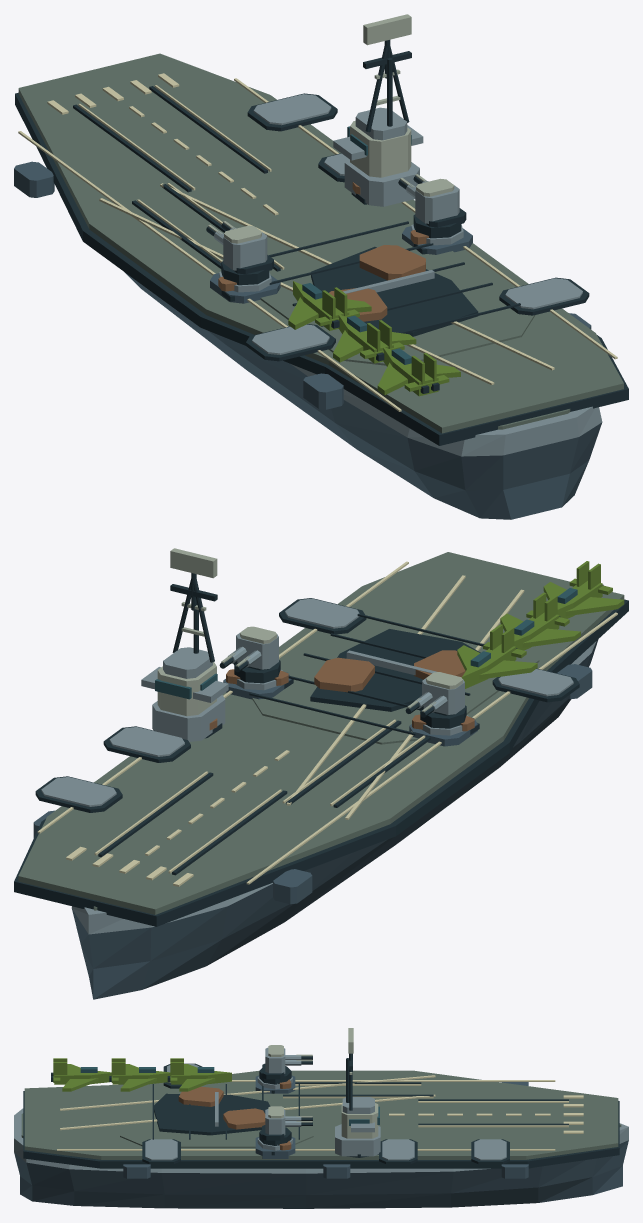
Rendered from historic-nimitz.glb.
3 renders of one model, top to bottom at view 1: azimuth 30°, elevation 25°; view 2: azimuth 150°, elevation 25°; view 3: azimuth 270°, elevation 25°, orthographic. The views are drawn at different scales.
Parts seen in each view (by area): view 1: historic-nimitz-historic-nimitz-geometry, historic-nimitz-part_flight-deck.022-geometry, historic-nimitz-part_bridge.080-geometry, historic-nimitz-ruin_flight-deck.021-geometry, historic-nimitz-turret_aa_aa-starboard.080-geometry, historic-nimitz-turret_aa_aa-port.084-geometry, historic-nimitz-parked_aircraft_0.022-geometry, historic-nimitz-parked_aircraft_2.022-geometry, historic-nimitz-parked_aircraft_1.022-geometry, historic-nimitz-aircraft_lift_0.022-geometry, historic-nimitz-aircraft_lift_2.017-geometry, historic-nimitz-aircraft_lift_3.004-geometry (+2 smaller); view 2: historic-nimitz-historic-nimitz-geometry, historic-nimitz-part_flight-deck.022-geometry, historic-nimitz-part_bridge.080-geometry, historic-nimitz-ruin_flight-deck.021-geometry, historic-nimitz-parked_aircraft_2.022-geometry, historic-nimitz-turret_aa_aa-starboard.080-geometry, historic-nimitz-turret_aa_aa-port.084-geometry, historic-nimitz-parked_aircraft_0.022-geometry, historic-nimitz-parked_aircraft_1.022-geometry, historic-nimitz-aircraft_lift_0.022-geometry, historic-nimitz-aircraft_lift_1.022-geometry, historic-nimitz-aircraft_lift_2.017-geometry (+3 smaller); view 3: historic-nimitz-historic-nimitz-geometry, historic-nimitz-part_flight-deck.022-geometry, historic-nimitz-ruin_flight-deck.021-geometry, historic-nimitz-part_bridge.080-geometry, historic-nimitz-parked_aircraft_2.022-geometry, historic-nimitz-turret_aa_aa-port.084-geometry, historic-nimitz-parked_aircraft_1.022-geometry, historic-nimitz-parked_aircraft_0.022-geometry, historic-nimitz-turret_aa_aa-starboard.080-geometry, historic-nimitz-aircraft_lift_0.022-geometry, historic-nimitz-aircraft_lift_2.017-geometry, historic-nimitz-aircraft_lift_1.022-geometry (+2 smaller).
Part boxes in pixels (bbox=[...]): historic-nimitz-historic-nimitz-geometry: bbox=[14, 53, 628, 519]; historic-nimitz-part_flight-deck.022-geometry: bbox=[260, 221, 535, 365]; historic-nimitz-part_bridge.080-geometry: bbox=[333, 14, 423, 206]; historic-nimitz-ruin_flight-deck.021-geometry: bbox=[311, 245, 478, 336]; historic-nimitz-turret_aa_aa-starboard.080-geometry: bbox=[398, 174, 466, 238]; historic-nimitz-turret_aa_aa-port.084-geometry: bbox=[206, 221, 273, 285]; historic-nimitz-parked_aircraft_0.022-geometry: bbox=[377, 346, 460, 396]; historic-nimitz-parked_aircraft_2.022-geometry: bbox=[288, 281, 371, 330]; historic-nimitz-parked_aircraft_1.022-geometry: bbox=[333, 314, 416, 363]; historic-nimitz-aircraft_lift_0.022-geometry: bbox=[247, 93, 337, 131]; historic-nimitz-aircraft_lift_2.017-geometry: bbox=[499, 277, 589, 315]; historic-nimitz-aircraft_lift_3.004-geometry: bbox=[246, 324, 335, 361]; historic-nimitz-historic-nimitz-geometry: bbox=[14, 552, 628, 999]; historic-nimitz-part_flight-deck.022-geometry: bbox=[249, 608, 539, 744]; historic-nimitz-part_bridge.080-geometry: bbox=[141, 548, 228, 741]; historic-nimitz-ruin_flight-deck.021-geometry: bbox=[310, 629, 480, 711]; historic-nimitz-parked_aircraft_2.022-geometry: bbox=[457, 624, 537, 688]; historic-nimitz-turret_aa_aa-starboard.080-geometry: bbox=[219, 626, 280, 683]; historic-nimitz-turret_aa_aa-port.084-geometry: bbox=[405, 672, 466, 728]; historic-nimitz-parked_aircraft_0.022-geometry: bbox=[543, 561, 624, 618]; historic-nimitz-parked_aircraft_1.022-geometry: bbox=[500, 592, 580, 650]; historic-nimitz-aircraft_lift_0.022-geometry: bbox=[35, 776, 122, 812]; historic-nimitz-aircraft_lift_1.022-geometry: bbox=[103, 726, 190, 762]; historic-nimitz-aircraft_lift_2.017-geometry: bbox=[279, 598, 366, 634]; historic-nimitz-historic-nimitz-geometry: bbox=[14, 1070, 628, 1208]; historic-nimitz-part_flight-deck.022-geometry: bbox=[120, 1084, 313, 1147]; historic-nimitz-ruin_flight-deck.021-geometry: bbox=[154, 1086, 270, 1135]; historic-nimitz-part_bridge.080-geometry: bbox=[335, 1028, 380, 1156]; historic-nimitz-parked_aircraft_2.022-geometry: bbox=[167, 1058, 231, 1091]; historic-nimitz-turret_aa_aa-port.084-geometry: bbox=[259, 1045, 312, 1084]; historic-nimitz-parked_aircraft_1.022-geometry: bbox=[109, 1058, 170, 1091]; historic-nimitz-parked_aircraft_0.022-geometry: bbox=[51, 1058, 111, 1091]; historic-nimitz-turret_aa_aa-starboard.080-geometry: bbox=[259, 1106, 312, 1145]; historic-nimitz-aircraft_lift_0.022-geometry: bbox=[471, 1139, 509, 1164]; historic-nimitz-aircraft_lift_2.017-geometry: bbox=[142, 1139, 180, 1164]; historic-nimitz-aircraft_lift_1.022-geometry: bbox=[379, 1139, 417, 1164].
Size of the model in its own units: 2.23 by 1.95 by 5.89.
